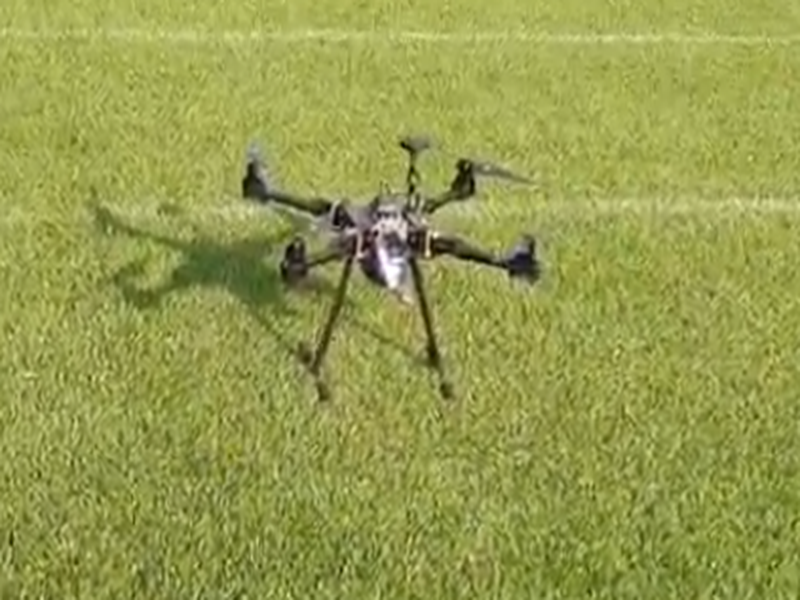enemy: (240, 134, 547, 403)
